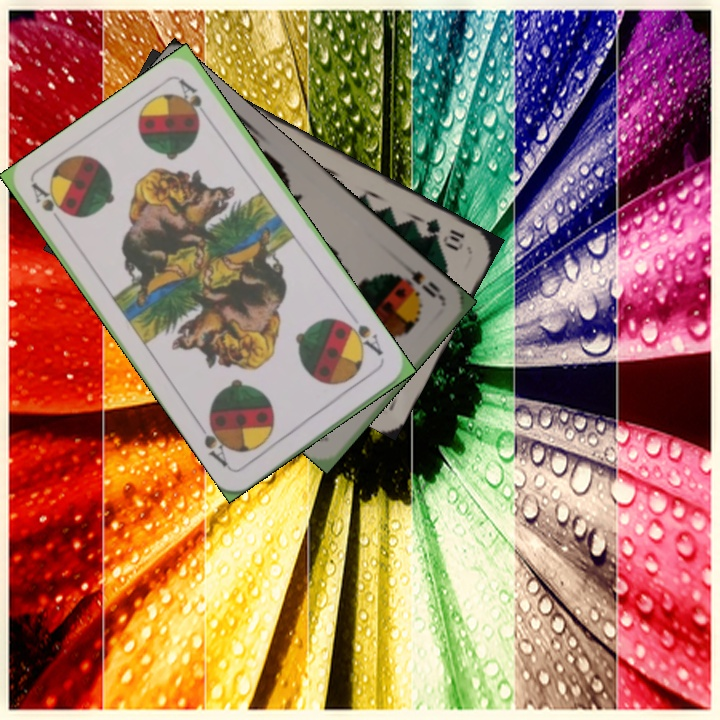G10: (422, 214, 468, 253)
SA: (28, 180, 68, 232), (339, 318, 386, 359)
SO: (396, 257, 446, 302)
